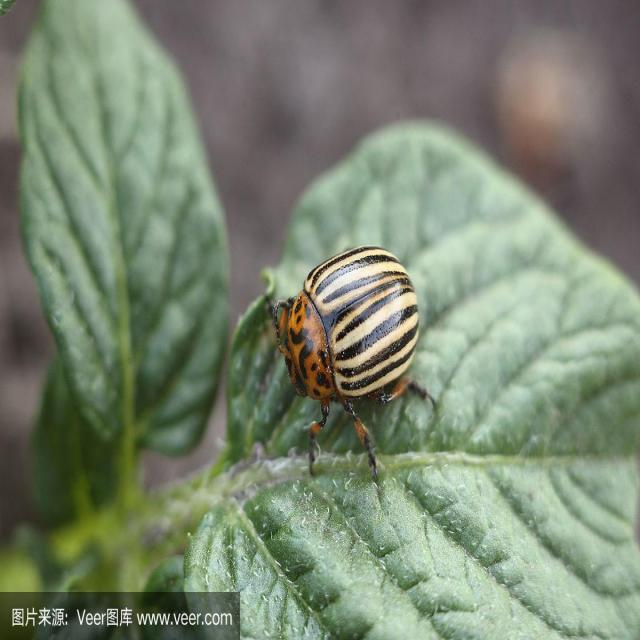ShuCaiHuaBanChong-Grown-: (269, 244, 434, 456)
